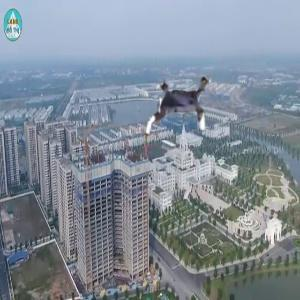drone: (141, 68, 219, 146)
